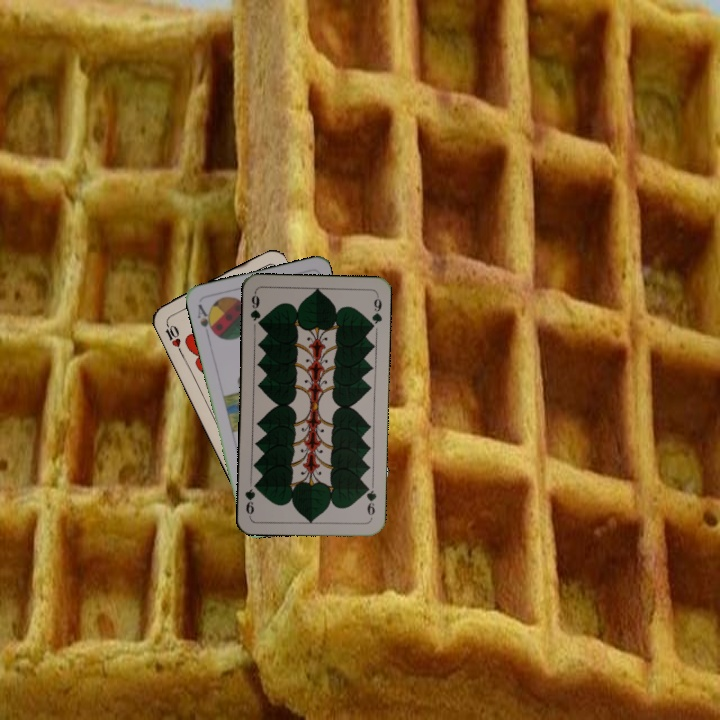G9: (246, 289, 265, 330), (362, 481, 379, 521)
H10: (161, 316, 184, 355)
SA: (193, 300, 217, 340)
